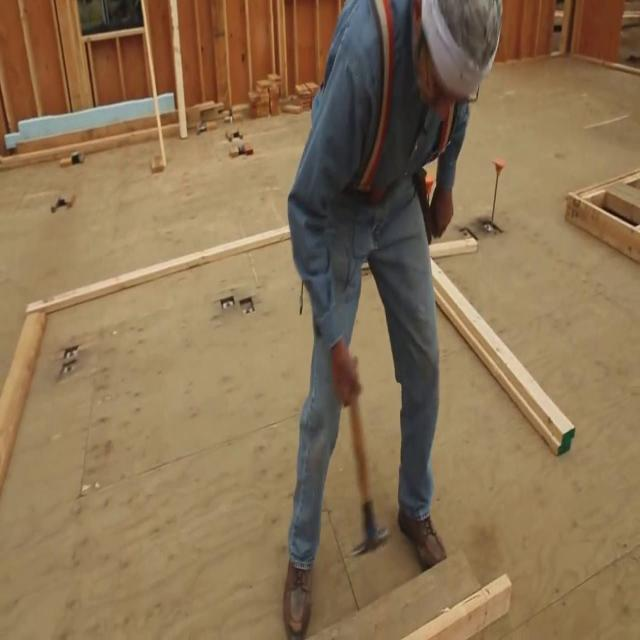hammer: (348, 357, 389, 558)
